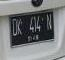1: (34, 15, 37, 33)
4: (29, 16, 34, 33), (37, 15, 41, 32)
K: (17, 18, 22, 36)
N: (46, 13, 52, 30)
O: (12, 18, 17, 36)
